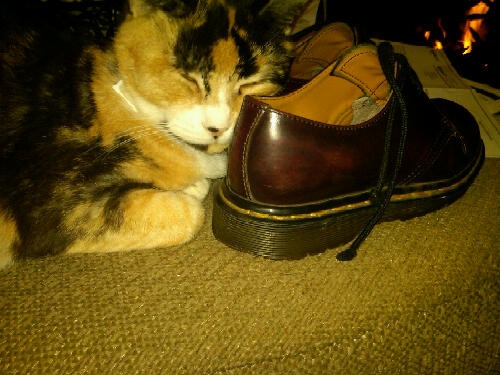cat: (0, 1, 315, 270)
